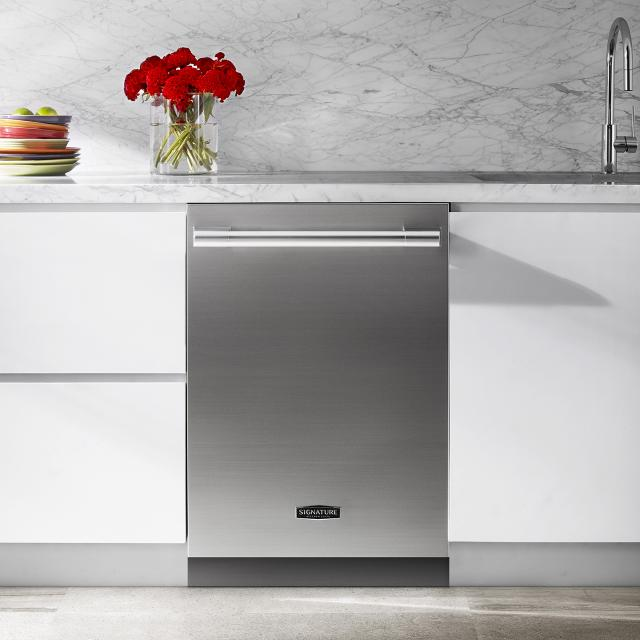dishwasher: (180, 193, 457, 594)
